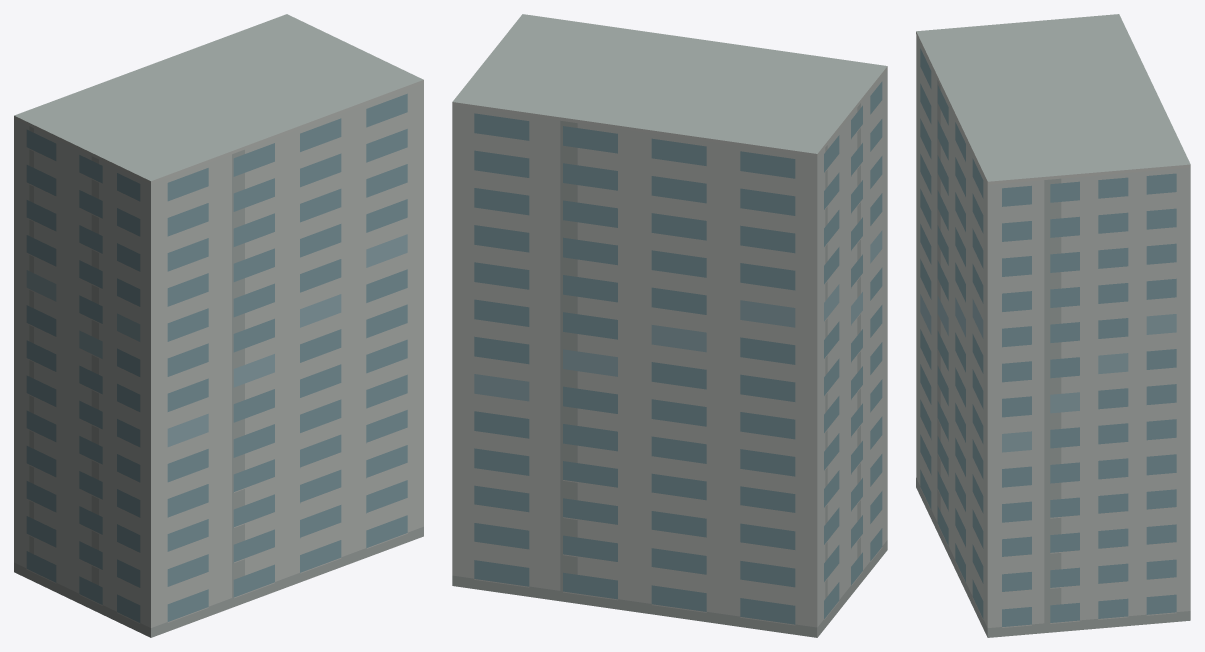
File: residential-63f91068-2bef-4e65-9259-29113c726c8c.glb
The picture shows the model from 3 angles, left to right: view 1: azimuth 30°, elevation 25°; view 2: azimuth 150°, elevation 25°; view 3: azimuth 270°, elevation 25°; orthographic projection. The views are drawn at different scales.
Visible parts, largest first — view 1: residential-63f91068-2bef-4e65-9259-29113c726c8c.tmp; view 2: residential-63f91068-2bef-4e65-9259-29113c726c8c.tmp; view 3: residential-63f91068-2bef-4e65-9259-29113c726c8c.tmp.
Part boxes in pixels (x1,y1,x2,y2): residential-63f91068-2bef-4e65-9259-29113c726c8c.tmp: (14, 14, 423, 637); residential-63f91068-2bef-4e65-9259-29113c726c8c.tmp: (452, 14, 887, 637); residential-63f91068-2bef-4e65-9259-29113c726c8c.tmp: (916, 14, 1190, 637).
Size of the model in its own units: 27.6 by 35 by 19.1.
